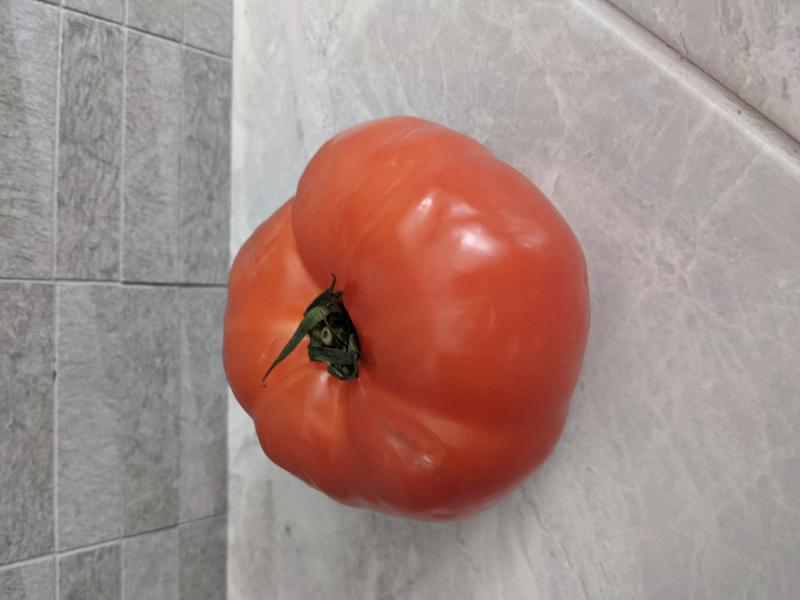tomato: (222, 115, 592, 522)
